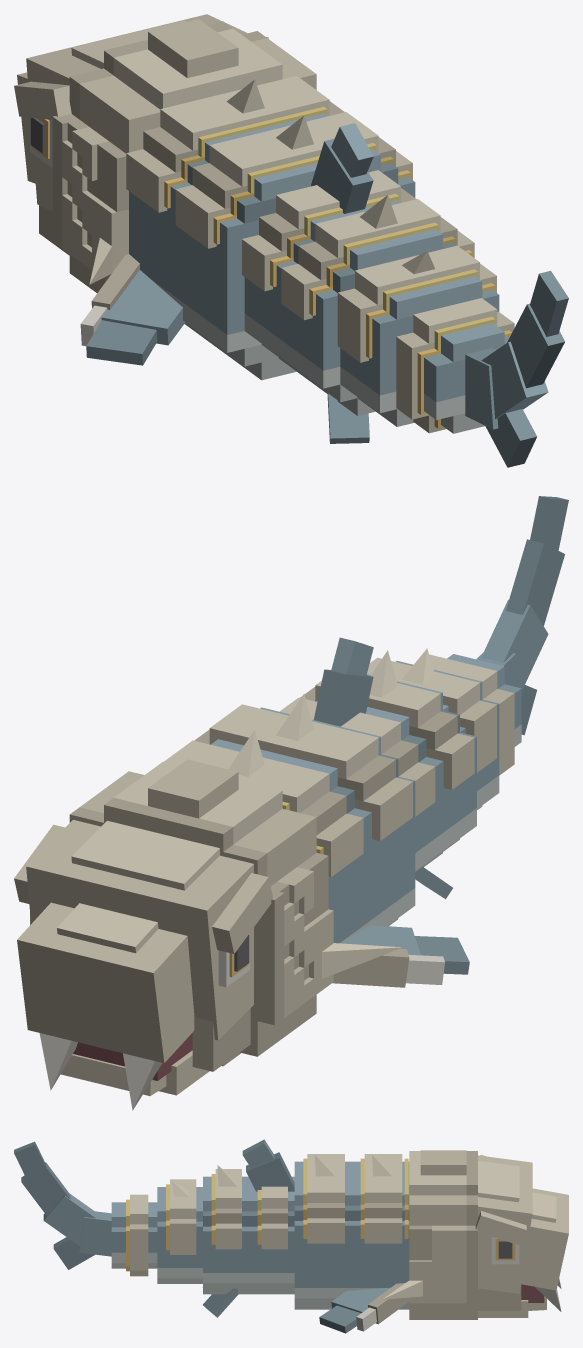
File: Dunkleosteus.glb
3 renders of one model, top to bottom at view 1: azimuth 30°, elevation 25°; view 2: azimuth 150°, elevation 25°; view 3: azimuth 270°, elevation 25°, orthographic. The views are drawn at different scales.
Visible parts, largest first — view 1: Head, S1, S2, S4, S5, S3, Tail, S6, S1_Glow, S4_Glow, S2_Glow, S5_Glow (+2 smaller); view 2: Head, S1, S2, S4, S3, Tail, S5, S6, Jaw; view 3: Head, S1, S2, S3, S4, Tail, S5, S6, S1_Glow, Jaw, S2_Glow, S4_Glow (+3 smaller).
Part boxes in pixels (x1,y1,x2,y2): Head: (14,14,316,292); S1: (80,76,344,365); S2: (175,112,415,380); S4: (281,195,474,443); S5: (337,245,499,426); S3: (242,123,416,386); Tail: (465,270,568,467); S6: (396,298,514,433); S1_Glow: (164,106,327,208); S4_Glow: (309,222,472,315); S2_Glow: (213,143,410,244); S5_Glow: (366,269,494,358); Head: (14,759,402,1110); S1: (164,730,469,987); S2: (194,694,415,927); S4: (300,650,476,899); S3: (279,637,437,871); Tail: (476,496,568,735); S5: (367,648,499,809); S6: (429,654,521,775); Jaw: (61,1050,209,1095); Head: (382,1150,568,1319); S1: (319,1154,409,1333); S2: (294,1154,351,1309); S3: (242,1139,294,1294); S4: (202,1165,248,1317); Tail: (14,1141,111,1269); S5: (157,1179,202,1283); S6: (111,1194,157,1276); S1_Glow: (360,1158,408,1238); Jaw: (478,1296,546,1317); S2_Glow: (303,1158,307,1238); S4_Glow: (211,1174,215,1244).
Bounding box in the file's own units: 12.13 × 8.53 × 26.17.
